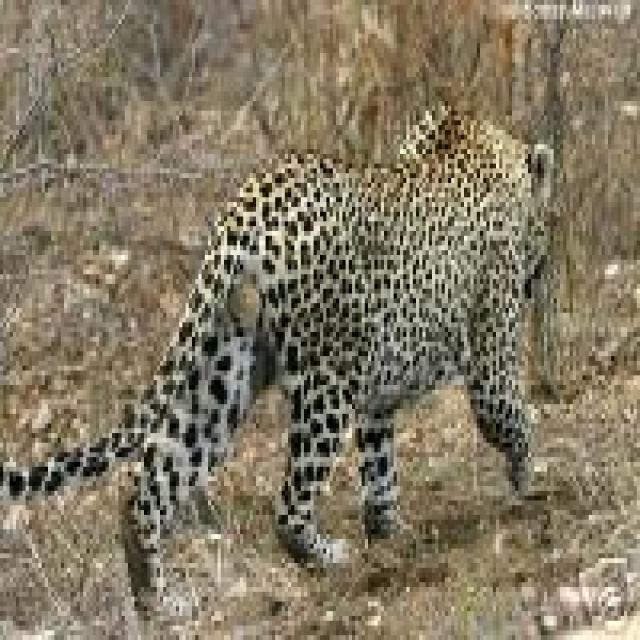Leopard: (112, 77, 576, 630)
